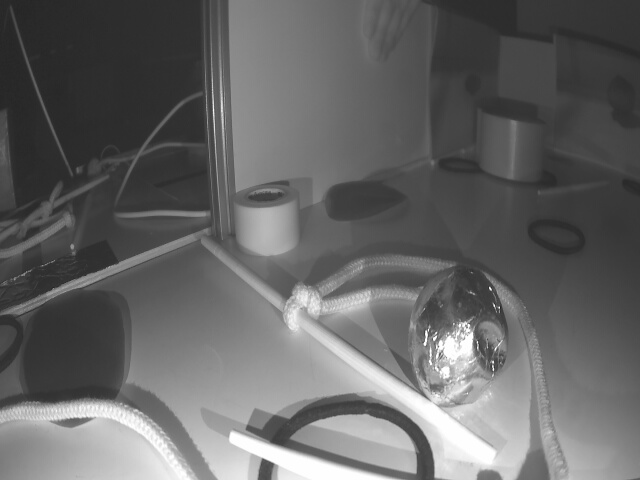Live: (407, 260, 504, 406)
